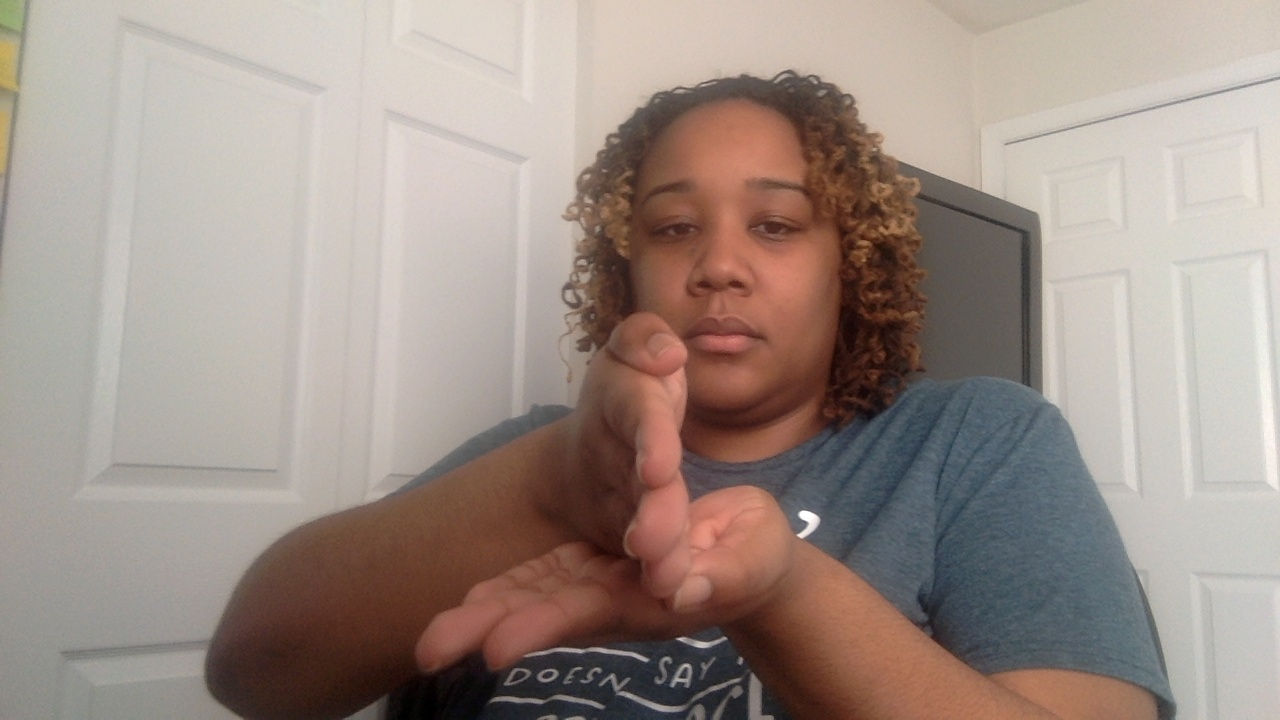stop: (427, 306, 796, 687)
